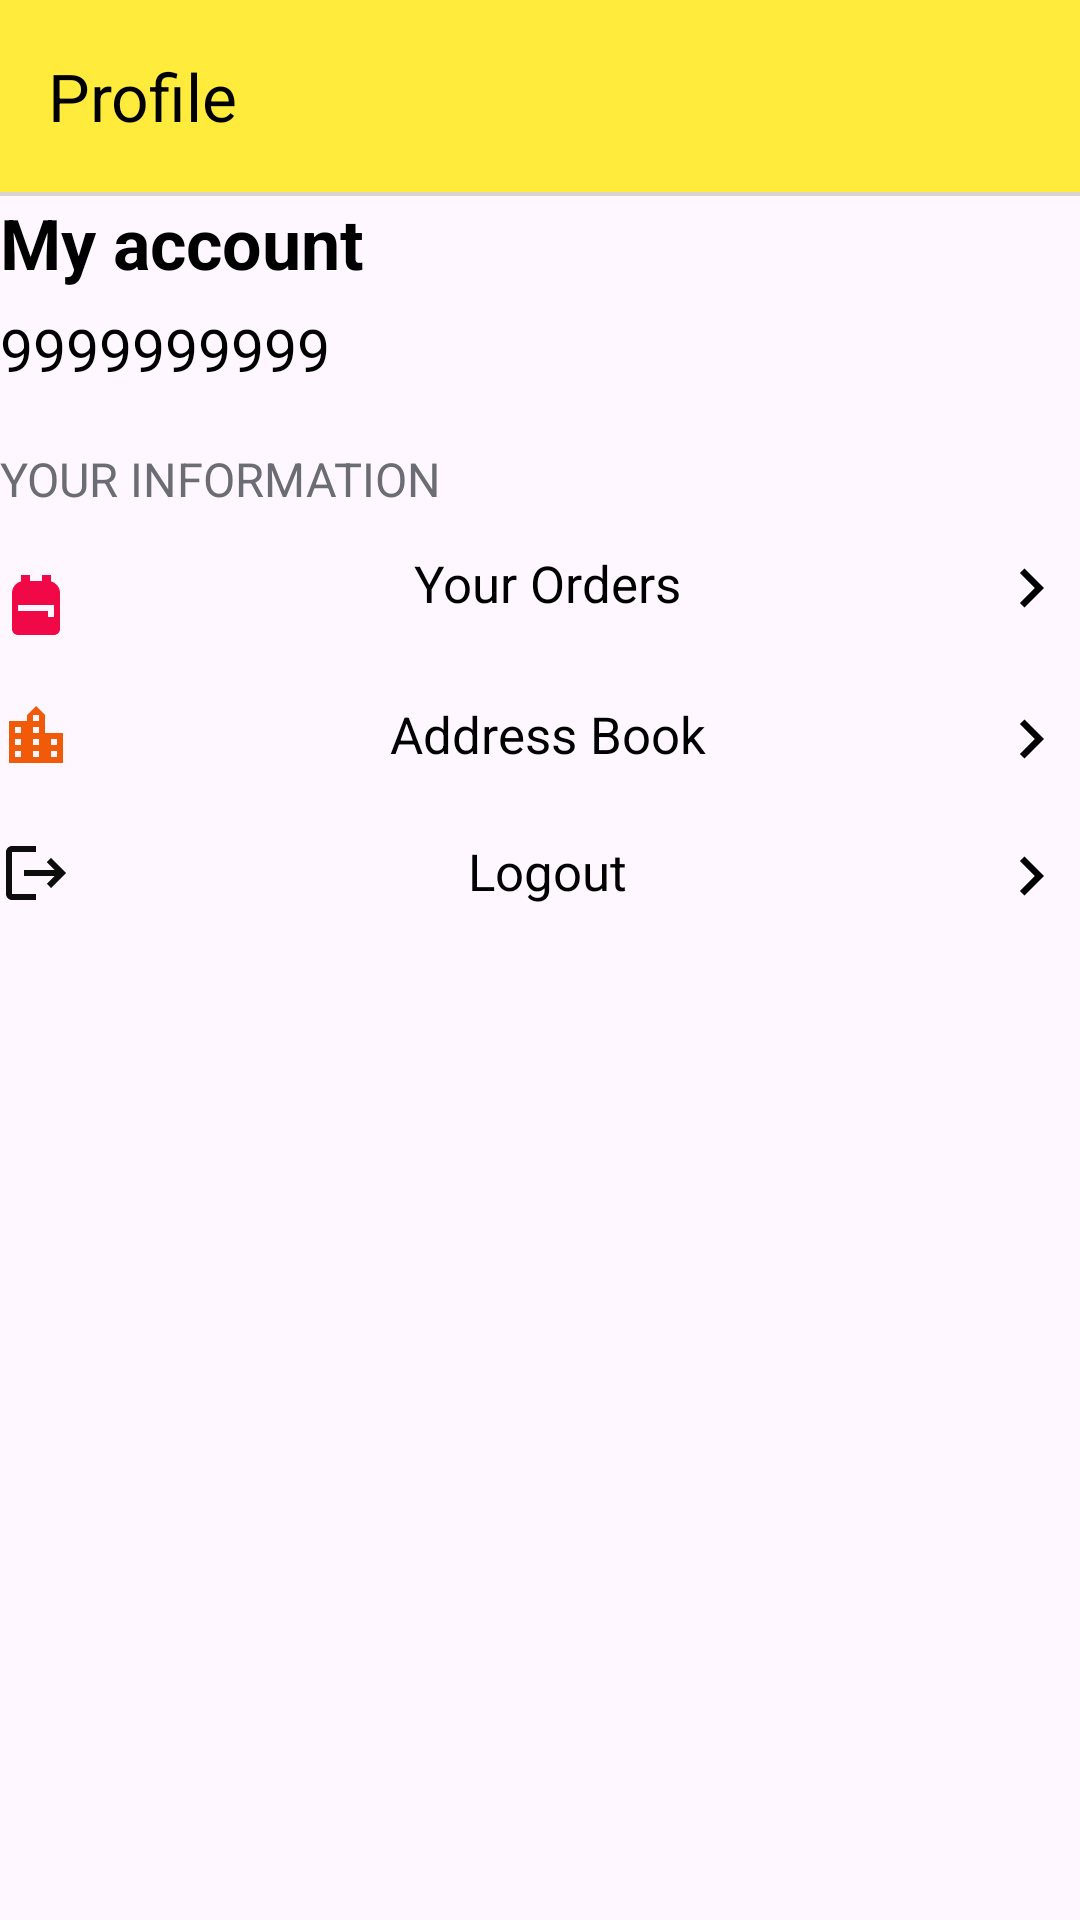

Icons on this 1080px x 1920px Android screen, each with the point to tap as [x,y]:
backpack: [36,605]
chevron right: [1032,588], [1032,739], [1032,876]
location city: [36,734]
